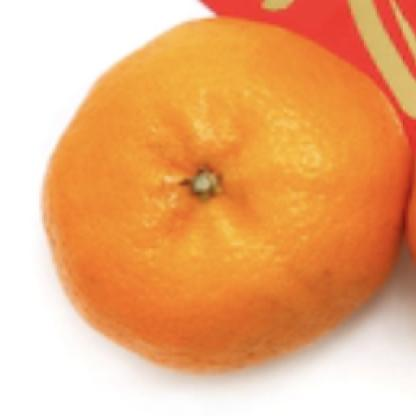fresh: (39, 18, 410, 377)
